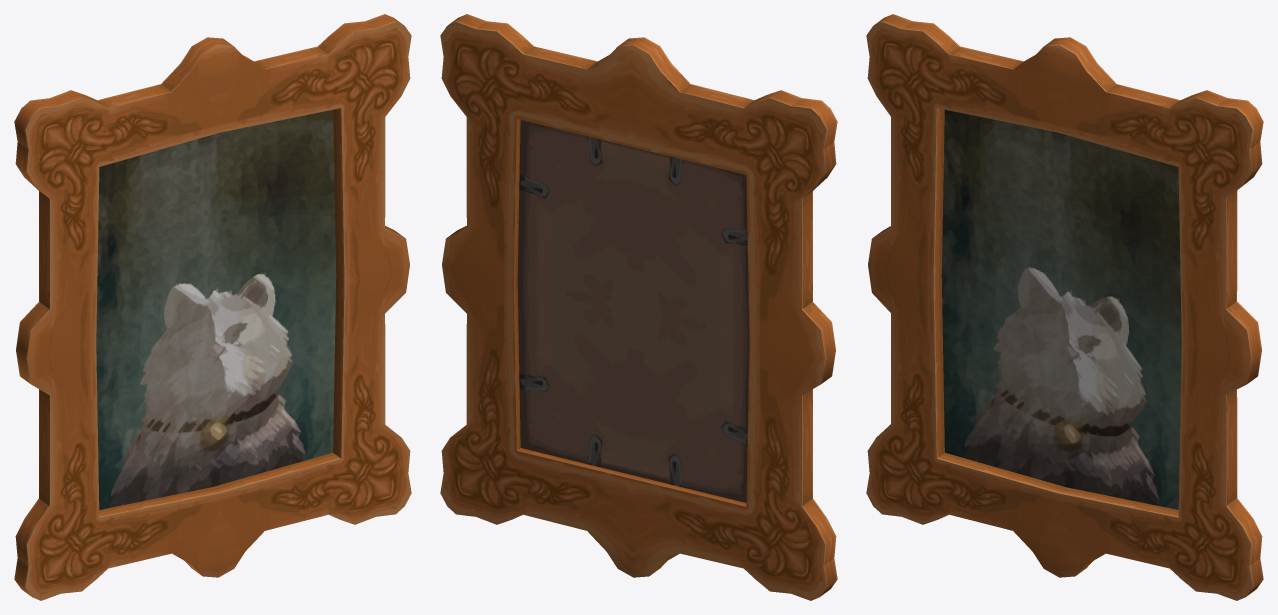
File: SM_PROP_painting_interior_02.fbx
3 views of the same model, side by side, from view 1: azimuth 30°, elevation 25°; view 2: azimuth 150°, elevation 25°; view 3: azimuth 330°, elevation 25° (orthographic).
Visible parts, largest first — view 1: SM_PROP_painting_interior_02; view 2: SM_PROP_painting_interior_02; view 3: SM_PROP_painting_interior_02.
Part boxes in pixels (x1,y1,x2,y2): SM_PROP_painting_interior_02: (14, 14, 411, 600); SM_PROP_painting_interior_02: (440, 14, 837, 600); SM_PROP_painting_interior_02: (866, 14, 1263, 600).
Bounding box in the file's own units: 78.14 × 103 × 5.18.
